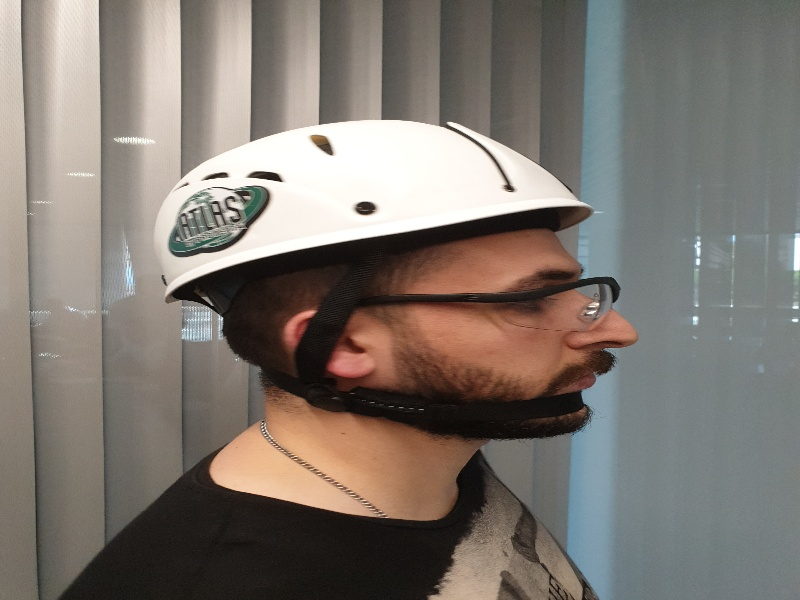Baret: (154, 118, 594, 269)
Gozluk: (375, 278, 622, 331)
